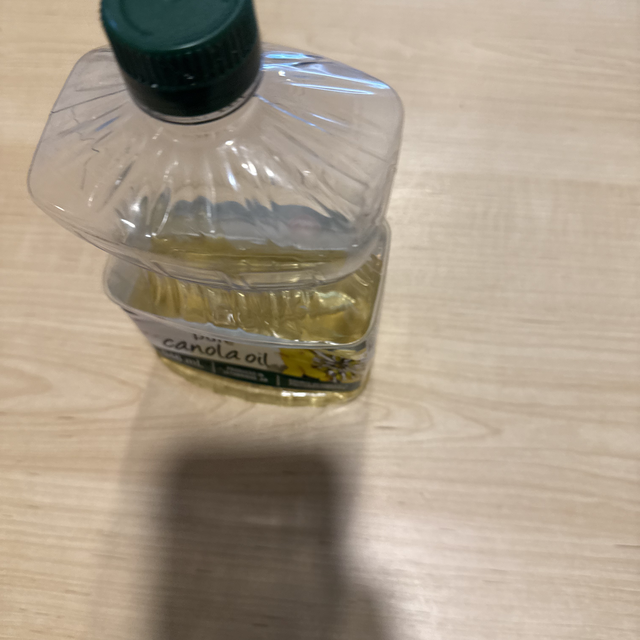Canola Oil: (15, 8, 435, 446)
